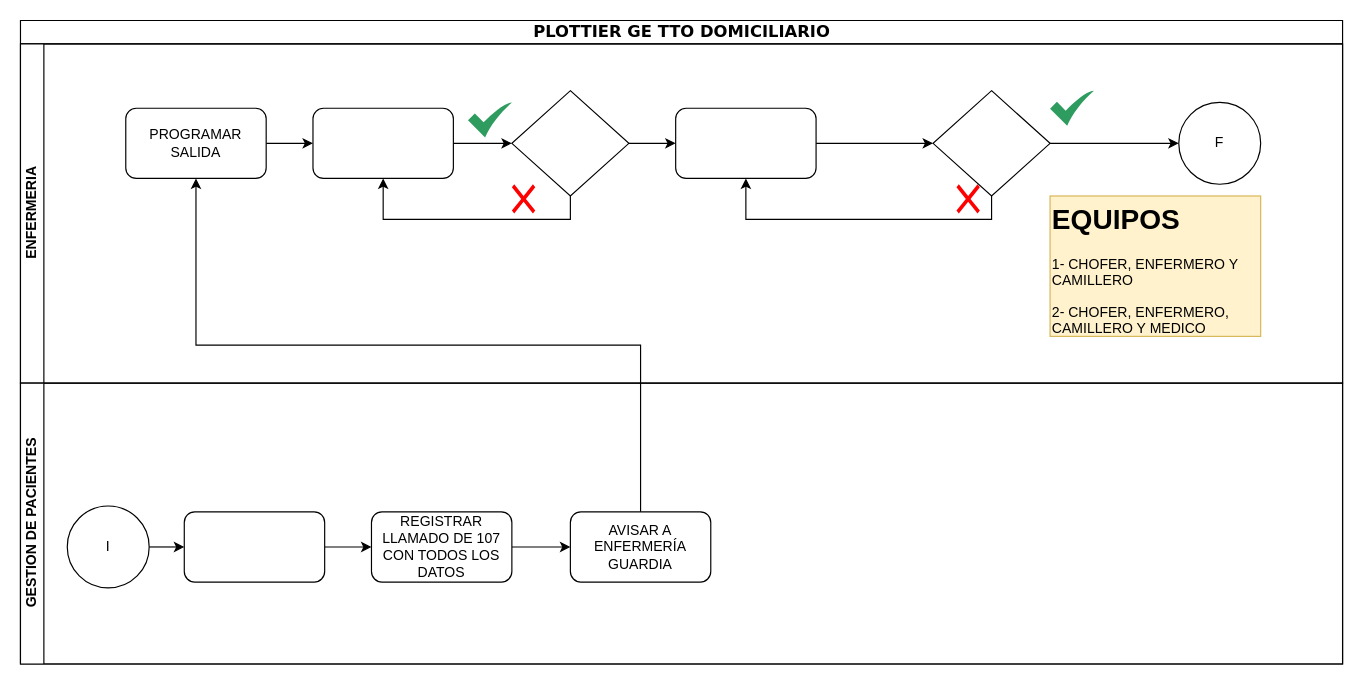
This 1363x684 diagram has some shape labels left out. Each missing label, with the centre of its shape:
"COORDINAR AMBULANCIA" belongs at (382,142).
"FIN TTO" belongs at (991,143).
"HAY DISPONIBILIDAD" belongs at (570,143).
"REALIZAR TTO CON EQUIPO 1" belongs at (745,142).
"RECIBE LLAMADO 107 O RADIO" belongs at (254,546).
